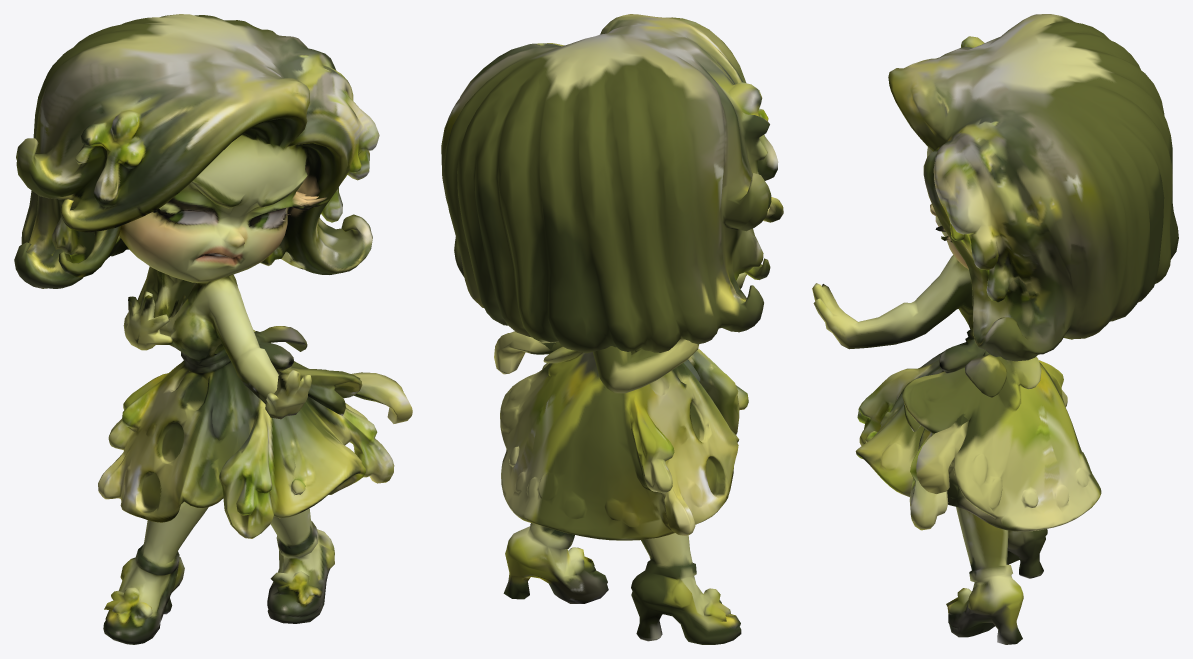
File: original.glb
The picture shows the model from 3 angles, left to right: view 1: azimuth 30°, elevation 25°; view 2: azimuth 150°, elevation 25°; view 3: azimuth 270°, elevation 25°; orthographic projection. The views are drawn at different scales.
Visible parts, largest first — view 1: Body; view 2: Body; view 3: Body.
Boxes of the visible parts, x1,y1,x2,y2 form: Body: [14, 14, 412, 644]; Body: [441, 14, 783, 644]; Body: [812, 14, 1178, 644].
Size of the model in its own units: 0.5883 by 1 by 0.6048.
1 material, 1 textured.
